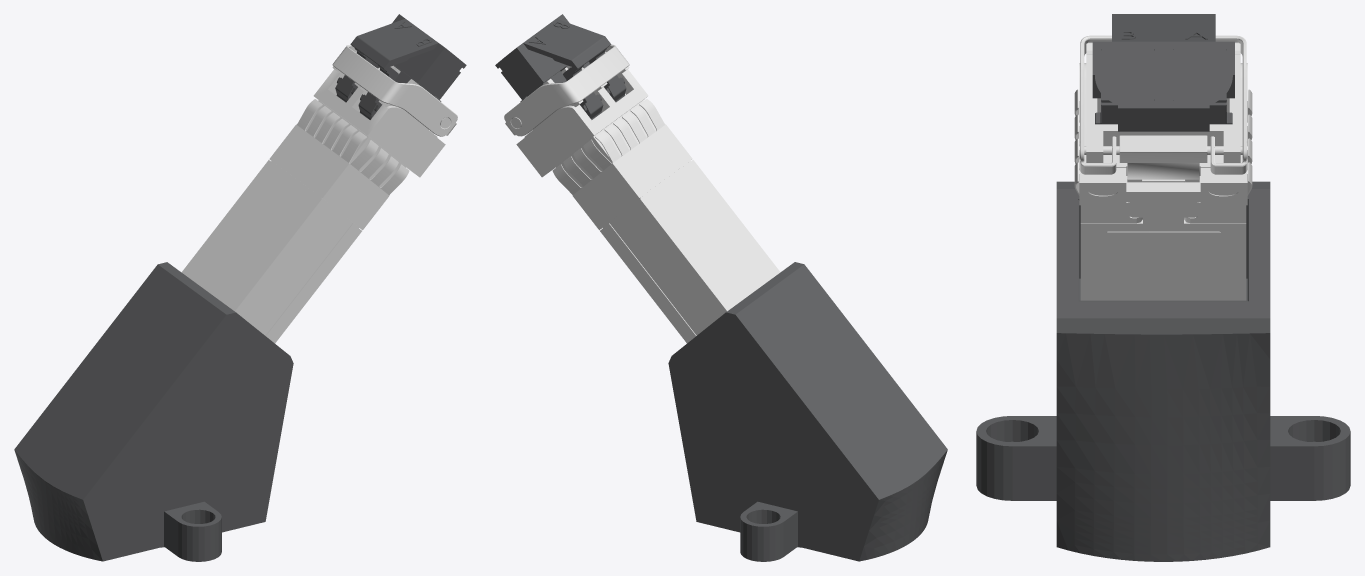
The picture shows the model from 3 angles, left to right: view 1: azimuth 30°, elevation 25°; view 2: azimuth 150°, elevation 25°; view 3: azimuth 270°, elevation 25°; orthographic projection. The views are drawn at different scales.
Parts seen in each view (by area): view 1: my_object; view 2: my_object; view 3: my_object.
Part boxes in pixels (left/top/right/bottom): my_object: left=14, top=14, right=466, bottom=561; my_object: left=495, top=14, right=947, bottom=561; my_object: left=976, top=14, right=1350, bottom=561.
Bounding box in the file's own units: 60.37 × 60.62 × 31.08.
1 material, 1 textured.
